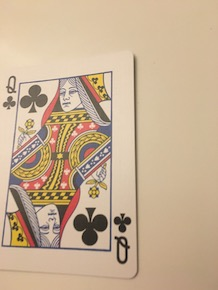QueenOfClubs: (1, 47, 140, 283)
